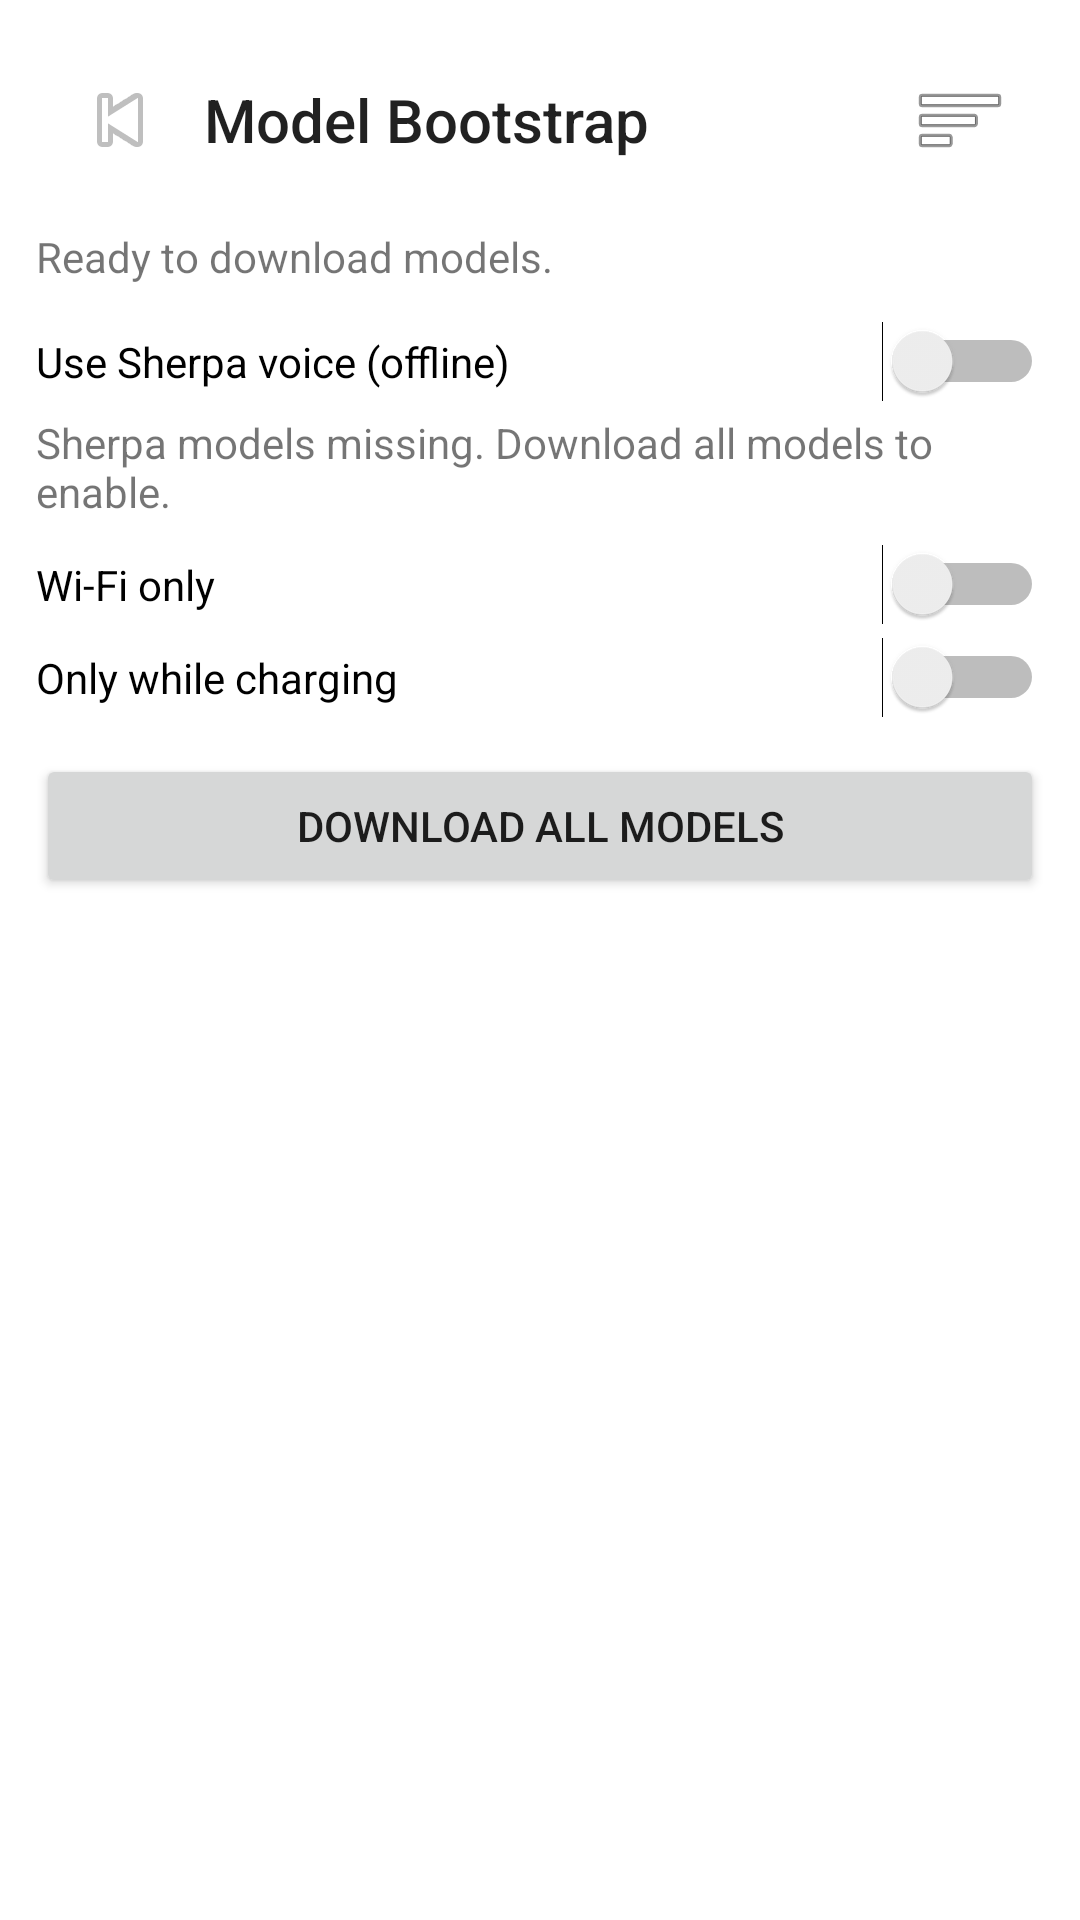

Named icons in this screenshot (1080*1920) and their centers, (x,y):
Back: (120,120)
